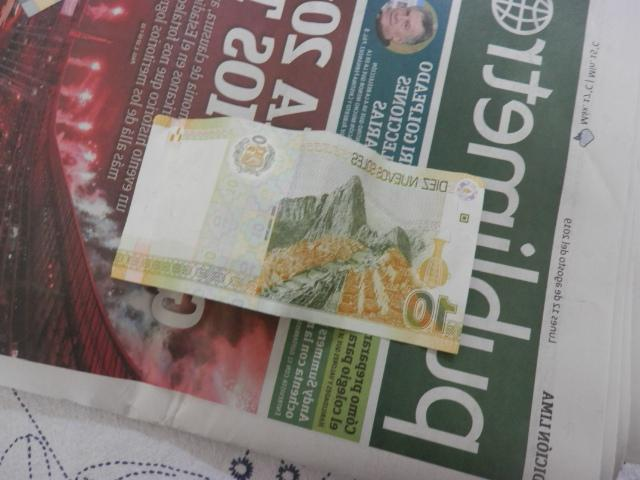B10: (110, 116, 487, 355)
